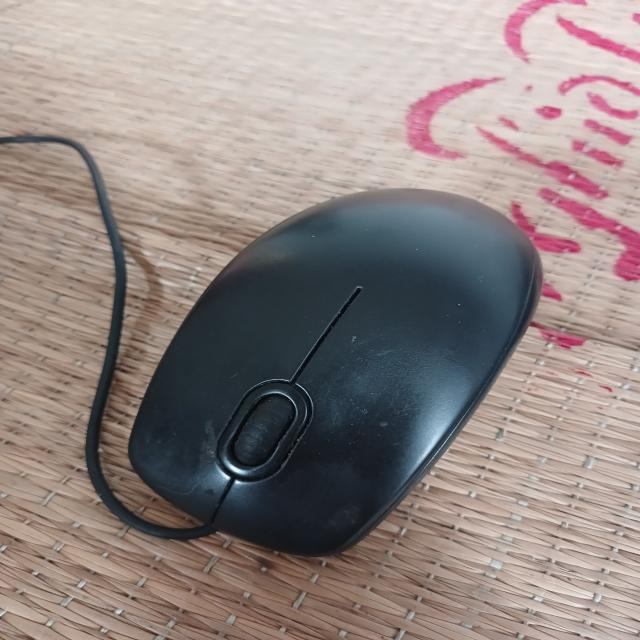mouse: (125, 182, 544, 569)
